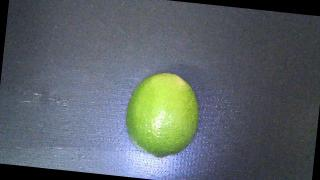EXPORTACION: (122, 69, 203, 161)
